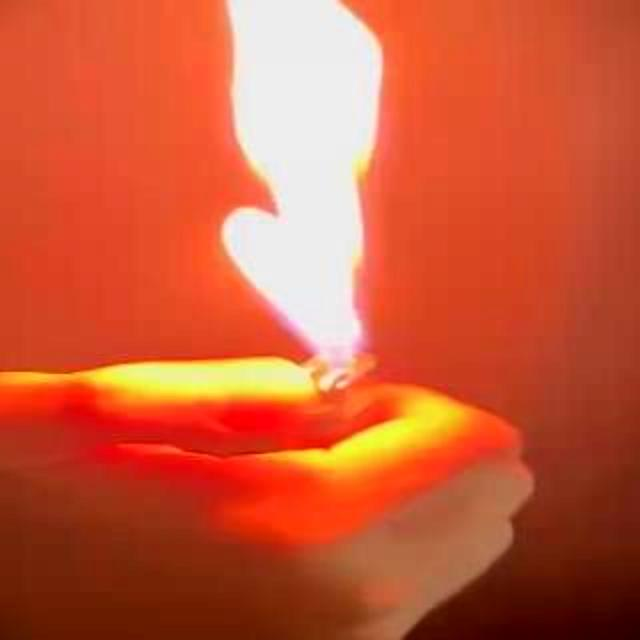fire: (222, 0, 382, 389)
